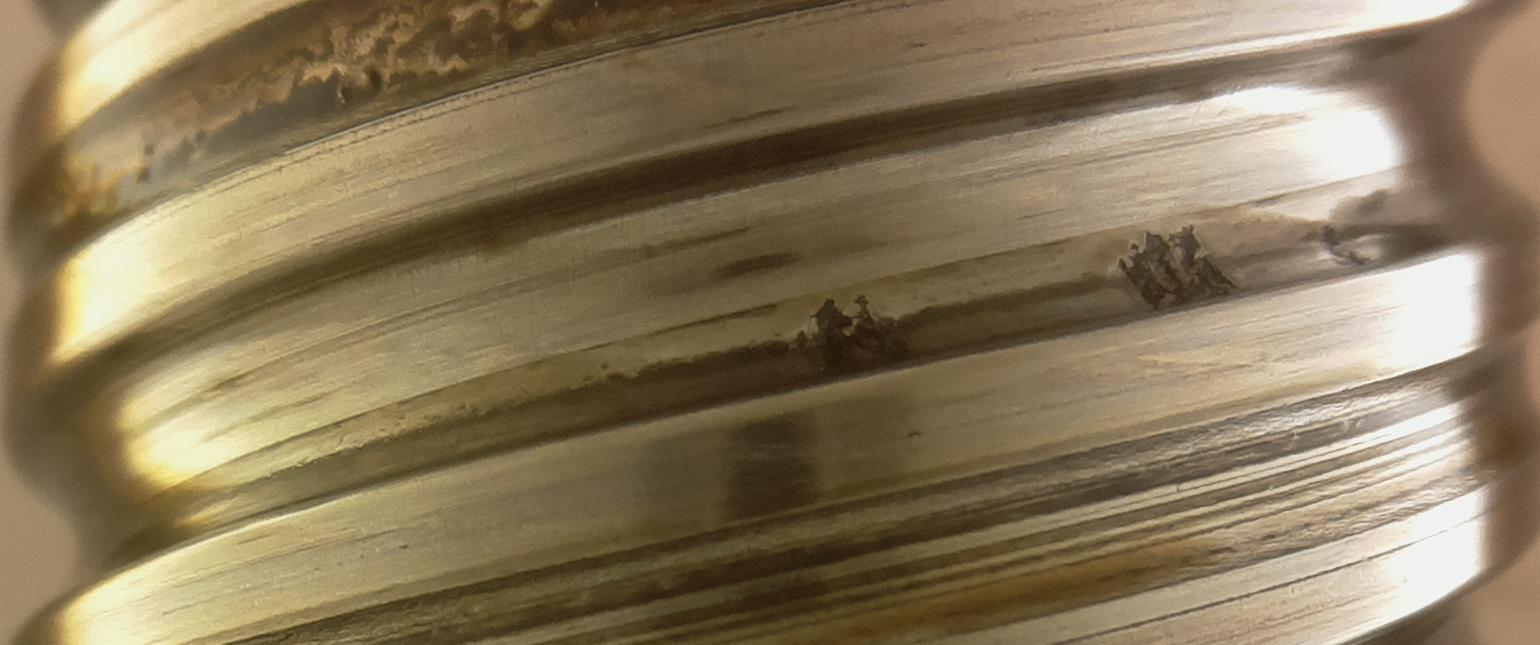pitting: (785, 295, 912, 390), (1119, 225, 1239, 314), (1301, 225, 1371, 265)
